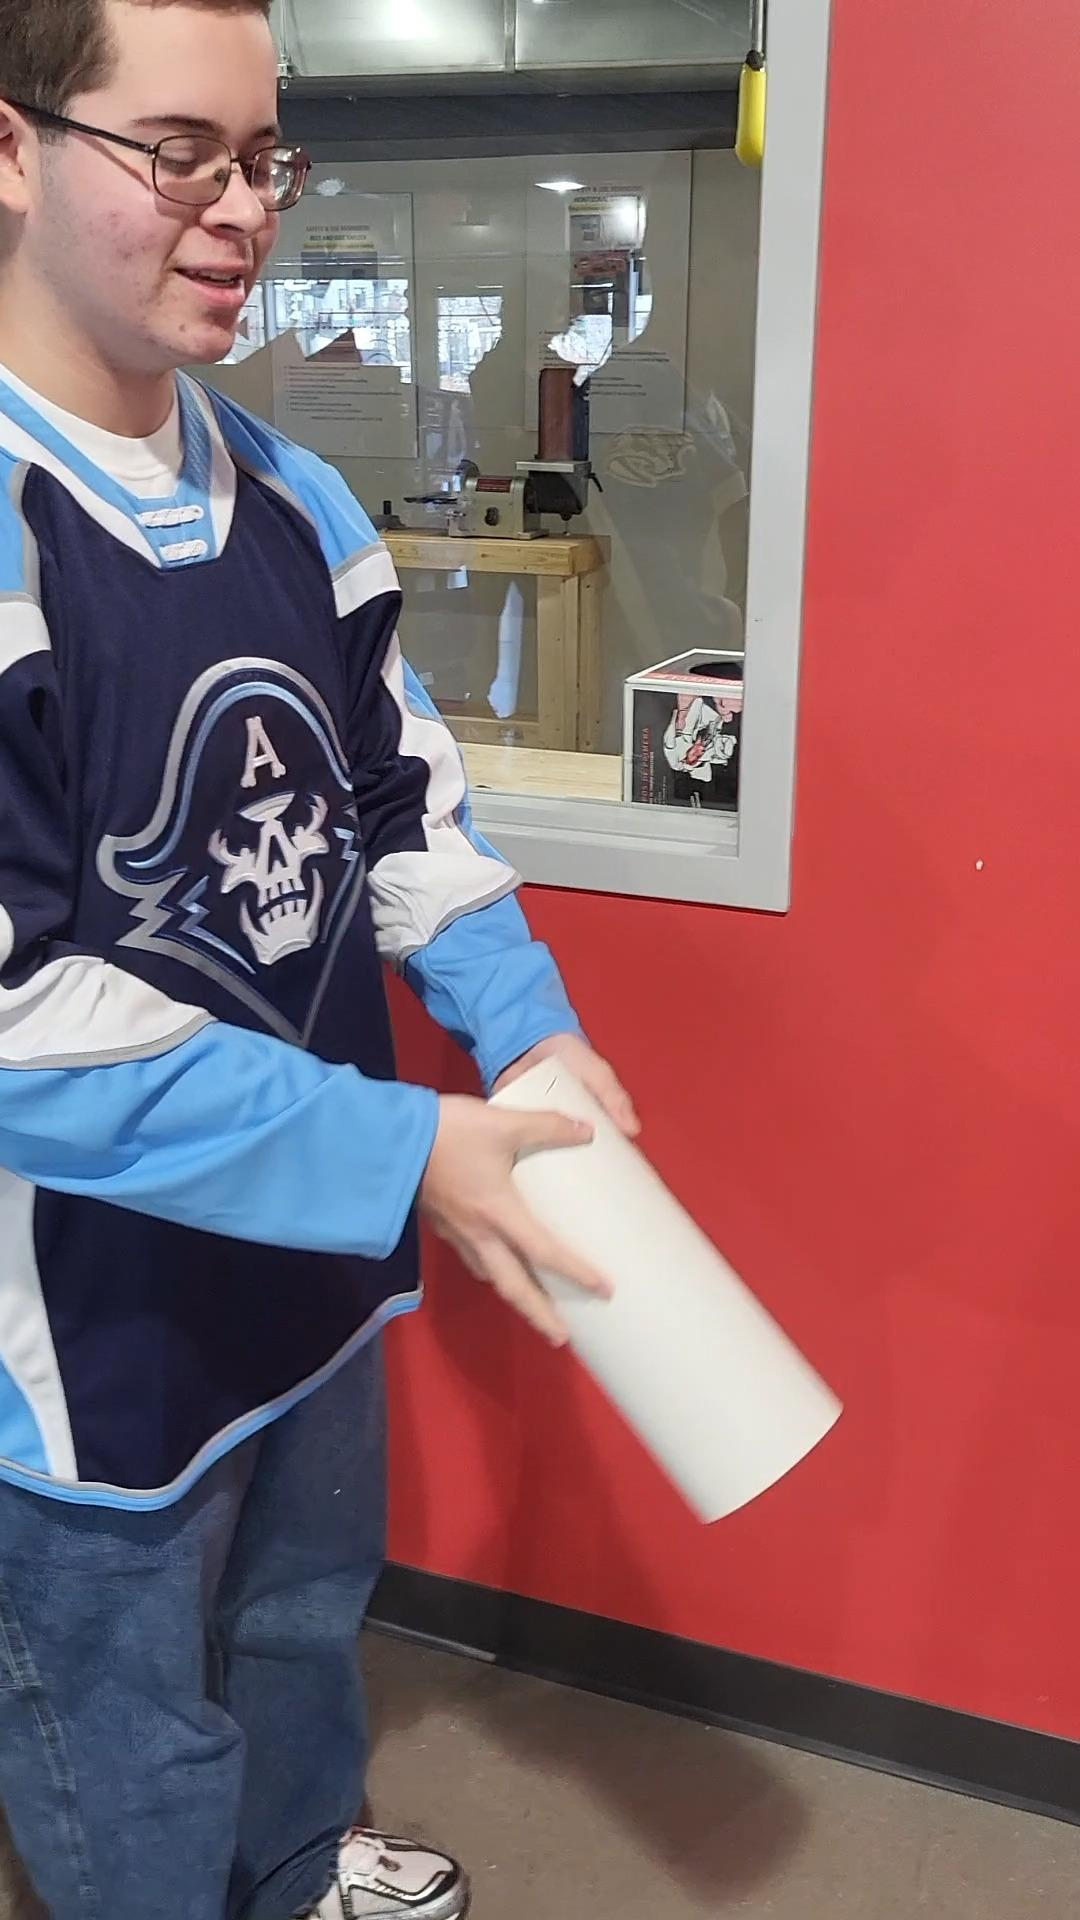coral: (454, 1058, 847, 1536)
